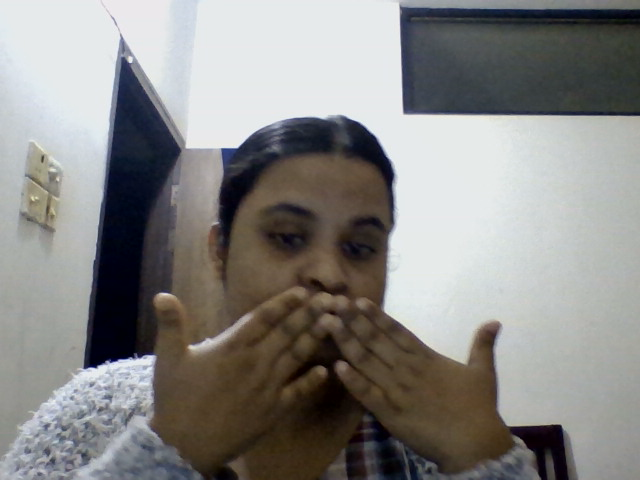Thank You: (115, 107, 562, 461)
